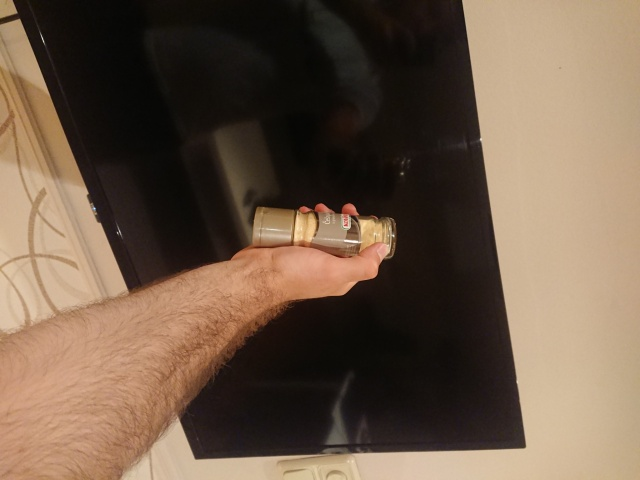Kotanyi Garlic Granules 70g: (249, 204, 398, 261)
